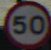Speed limit: (3, 4, 46, 42)
